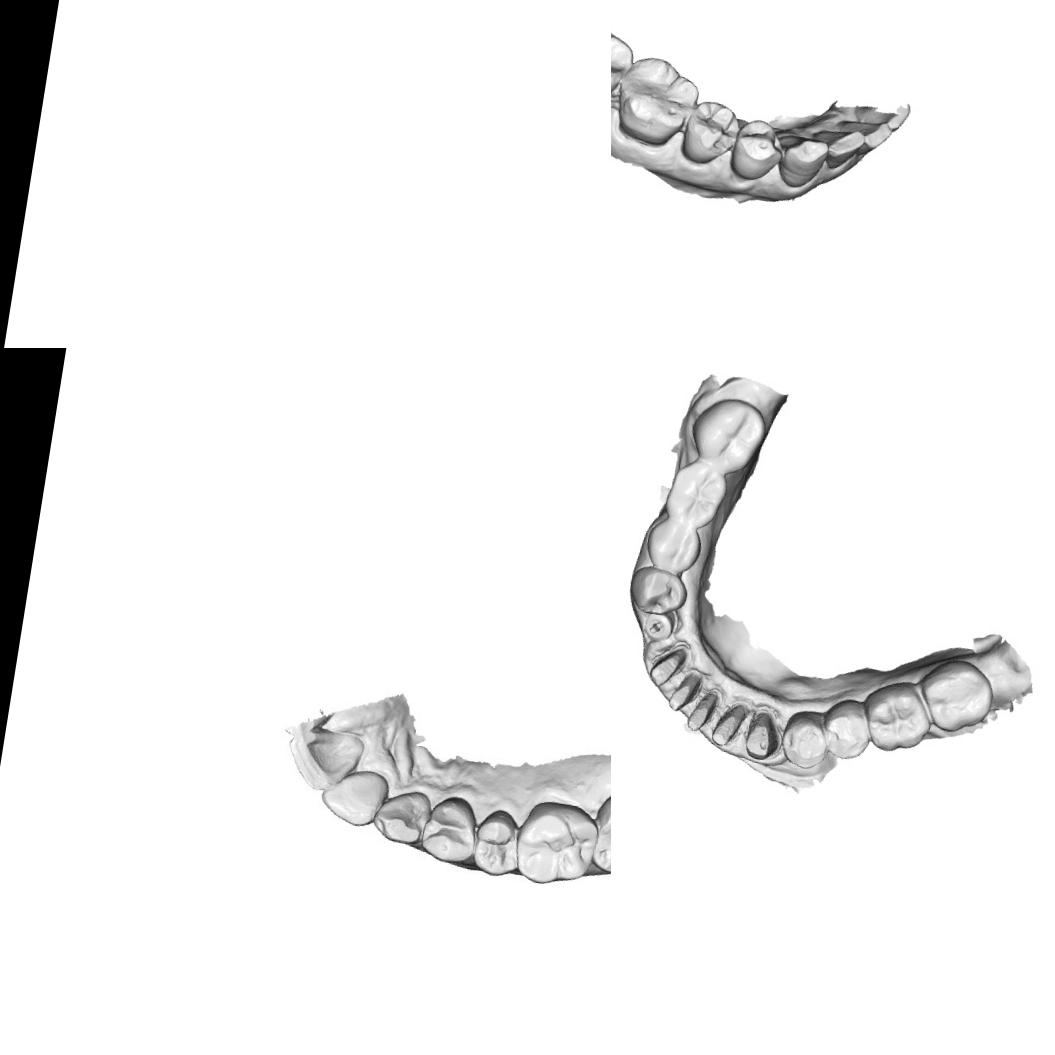canine: (370, 782, 434, 850), (772, 130, 831, 194)
crown: (738, 706, 784, 764), (642, 640, 692, 691), (707, 695, 750, 752), (662, 666, 704, 721), (681, 684, 722, 738)
implant_minus: (636, 606, 678, 644)
incisor: (281, 721, 368, 798), (314, 760, 394, 834), (808, 123, 870, 177), (832, 114, 895, 149)
molar: (508, 793, 605, 894), (612, 51, 705, 153), (682, 390, 772, 478), (912, 652, 1000, 740), (856, 673, 938, 759), (658, 452, 734, 534), (611, 10, 640, 114), (586, 780, 611, 882)
premolar: (416, 790, 484, 868), (678, 96, 746, 171), (725, 115, 788, 187), (468, 805, 526, 882), (638, 516, 706, 579), (623, 560, 691, 620), (818, 693, 875, 764), (777, 705, 834, 774)
